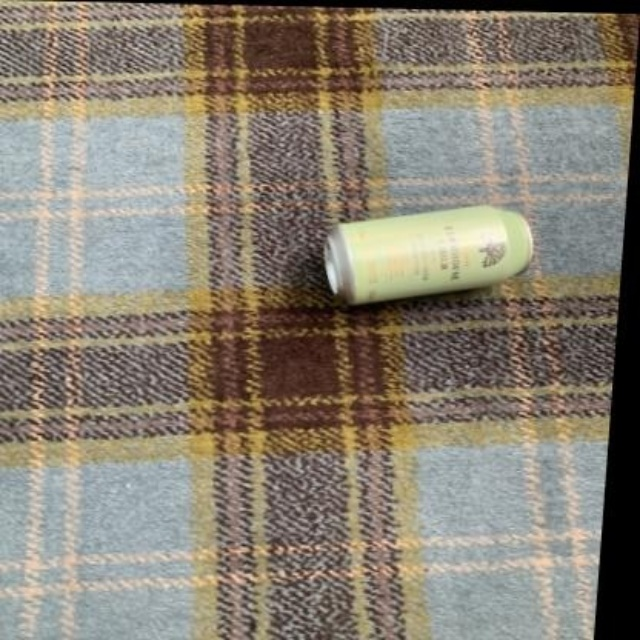trash: (325, 206, 532, 303)
